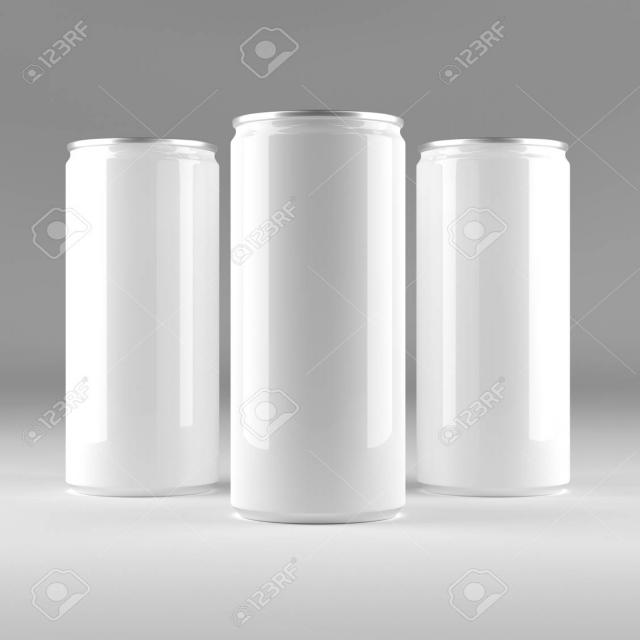non-organic waste: (215, 104, 417, 546), (413, 127, 589, 511), (56, 132, 224, 496)
